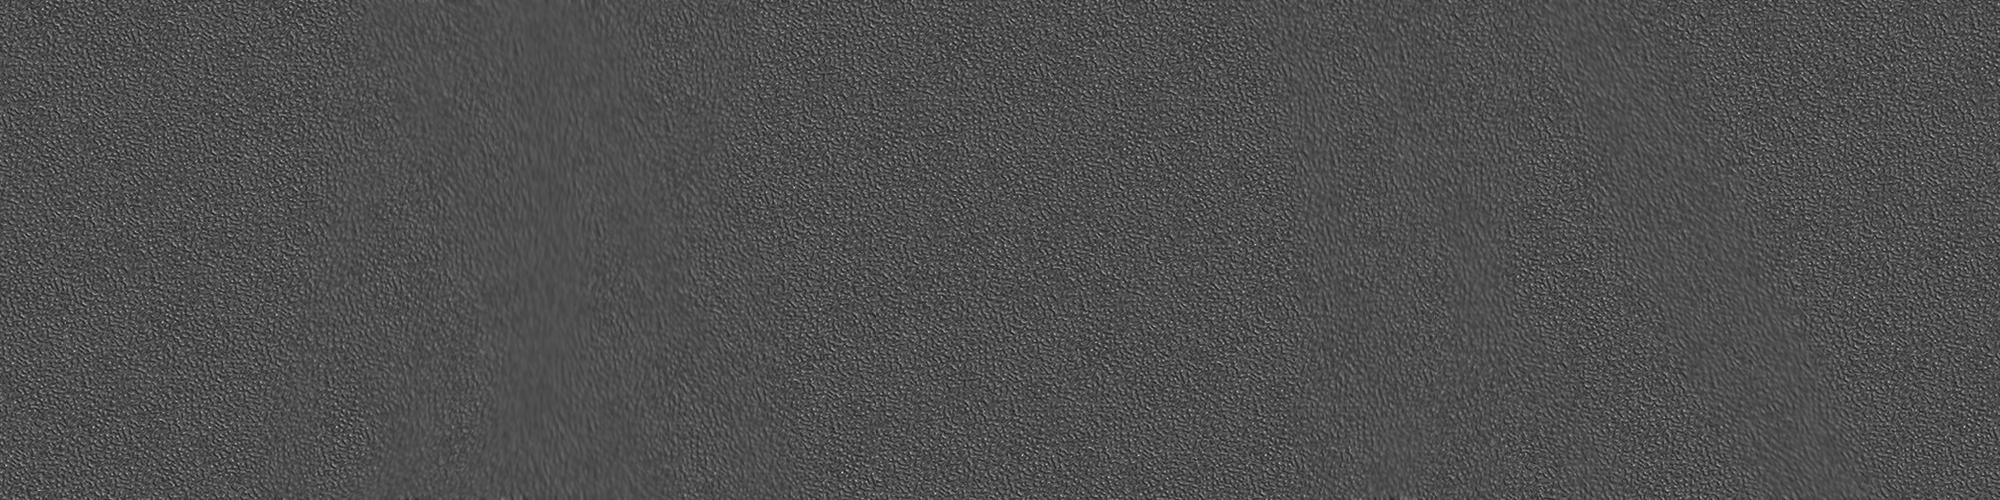Flow_Lines: (431, 10, 682, 481)
